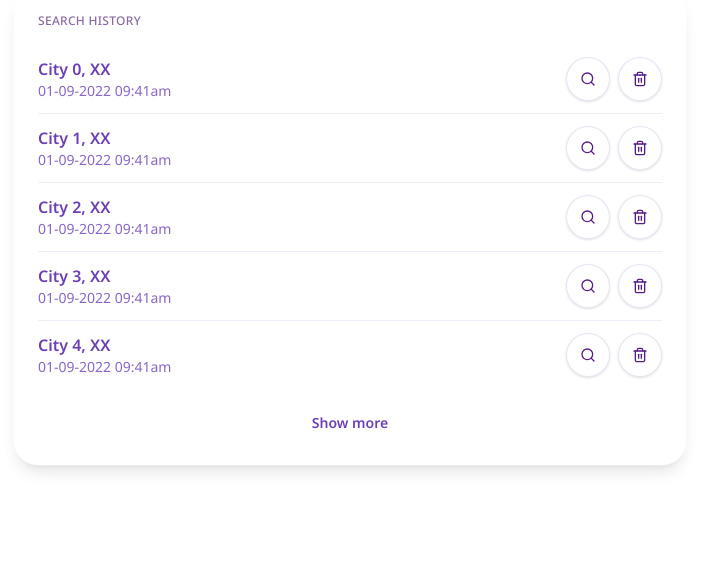
Test: SearchHistory › moves focus to the list when "Show more" unmounts itself after revealing the final page
This screenshot has width=701, height=577.
Click the button "Show more". click: (350, 423)
box: left=296, top=405, right=404, bottom=441
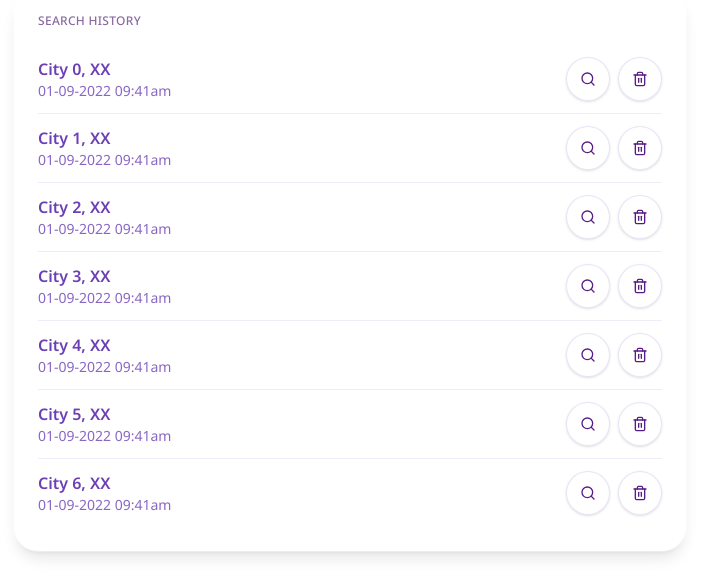
Expected: the button "Show more" is gone
